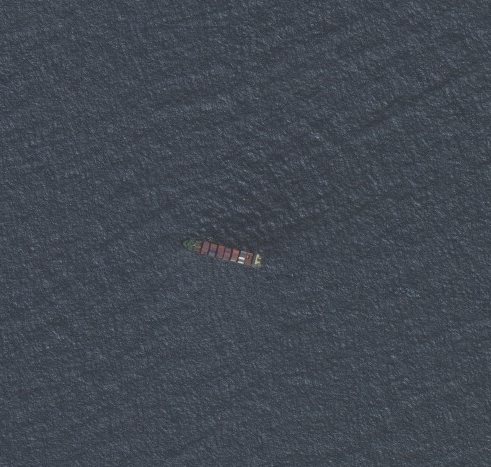ship: (177, 235, 267, 275)
